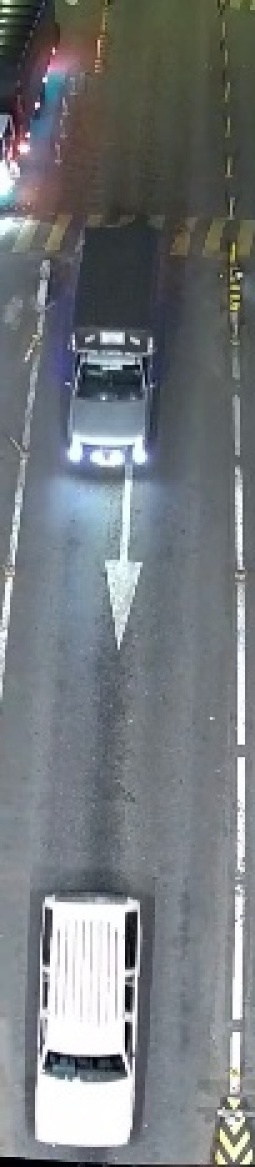car: (19, 880, 157, 1155)
truck: (51, 212, 172, 485), (1, 0, 72, 198)
